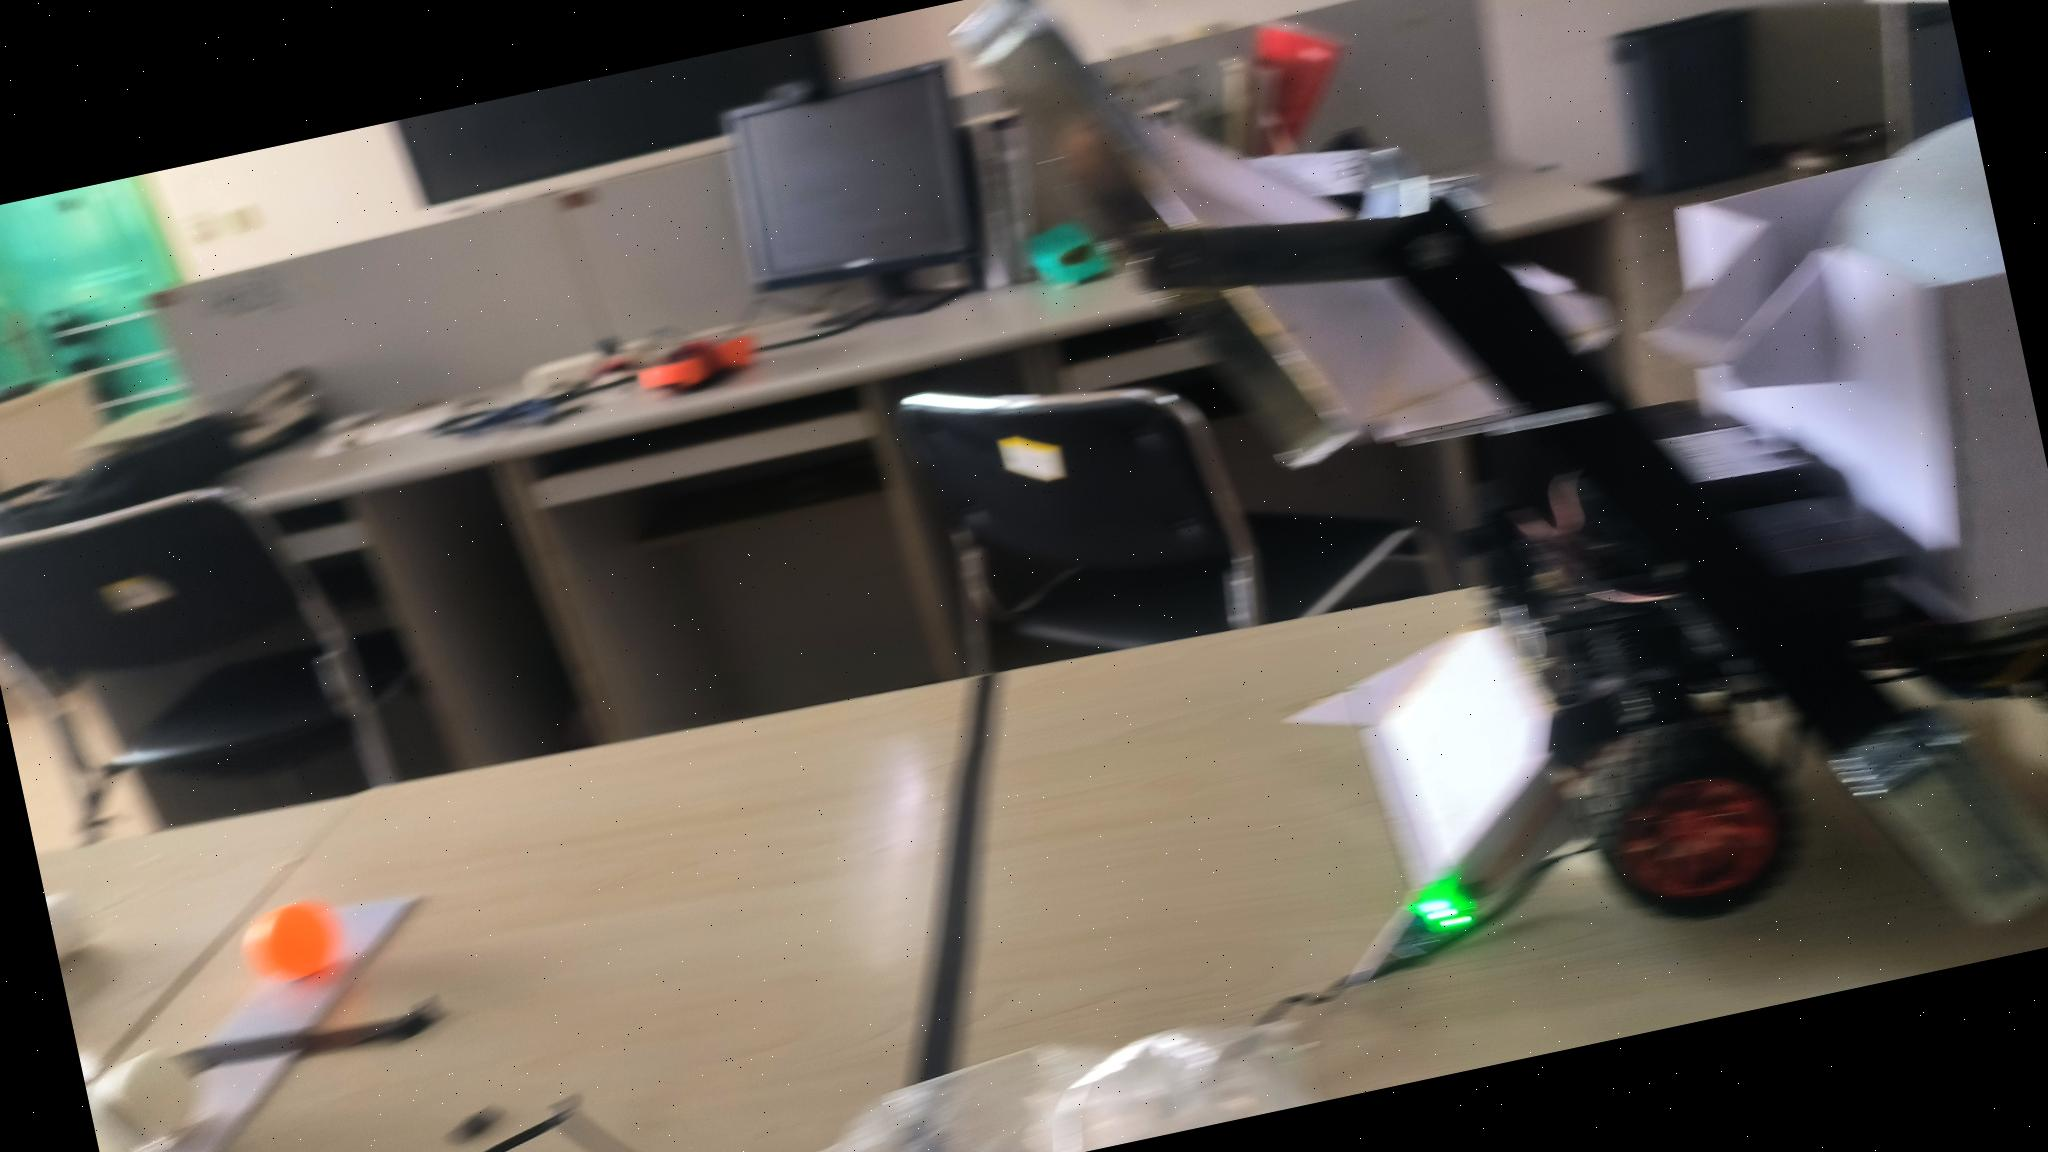ball: (100, 1047, 204, 1148), (236, 893, 343, 987)
